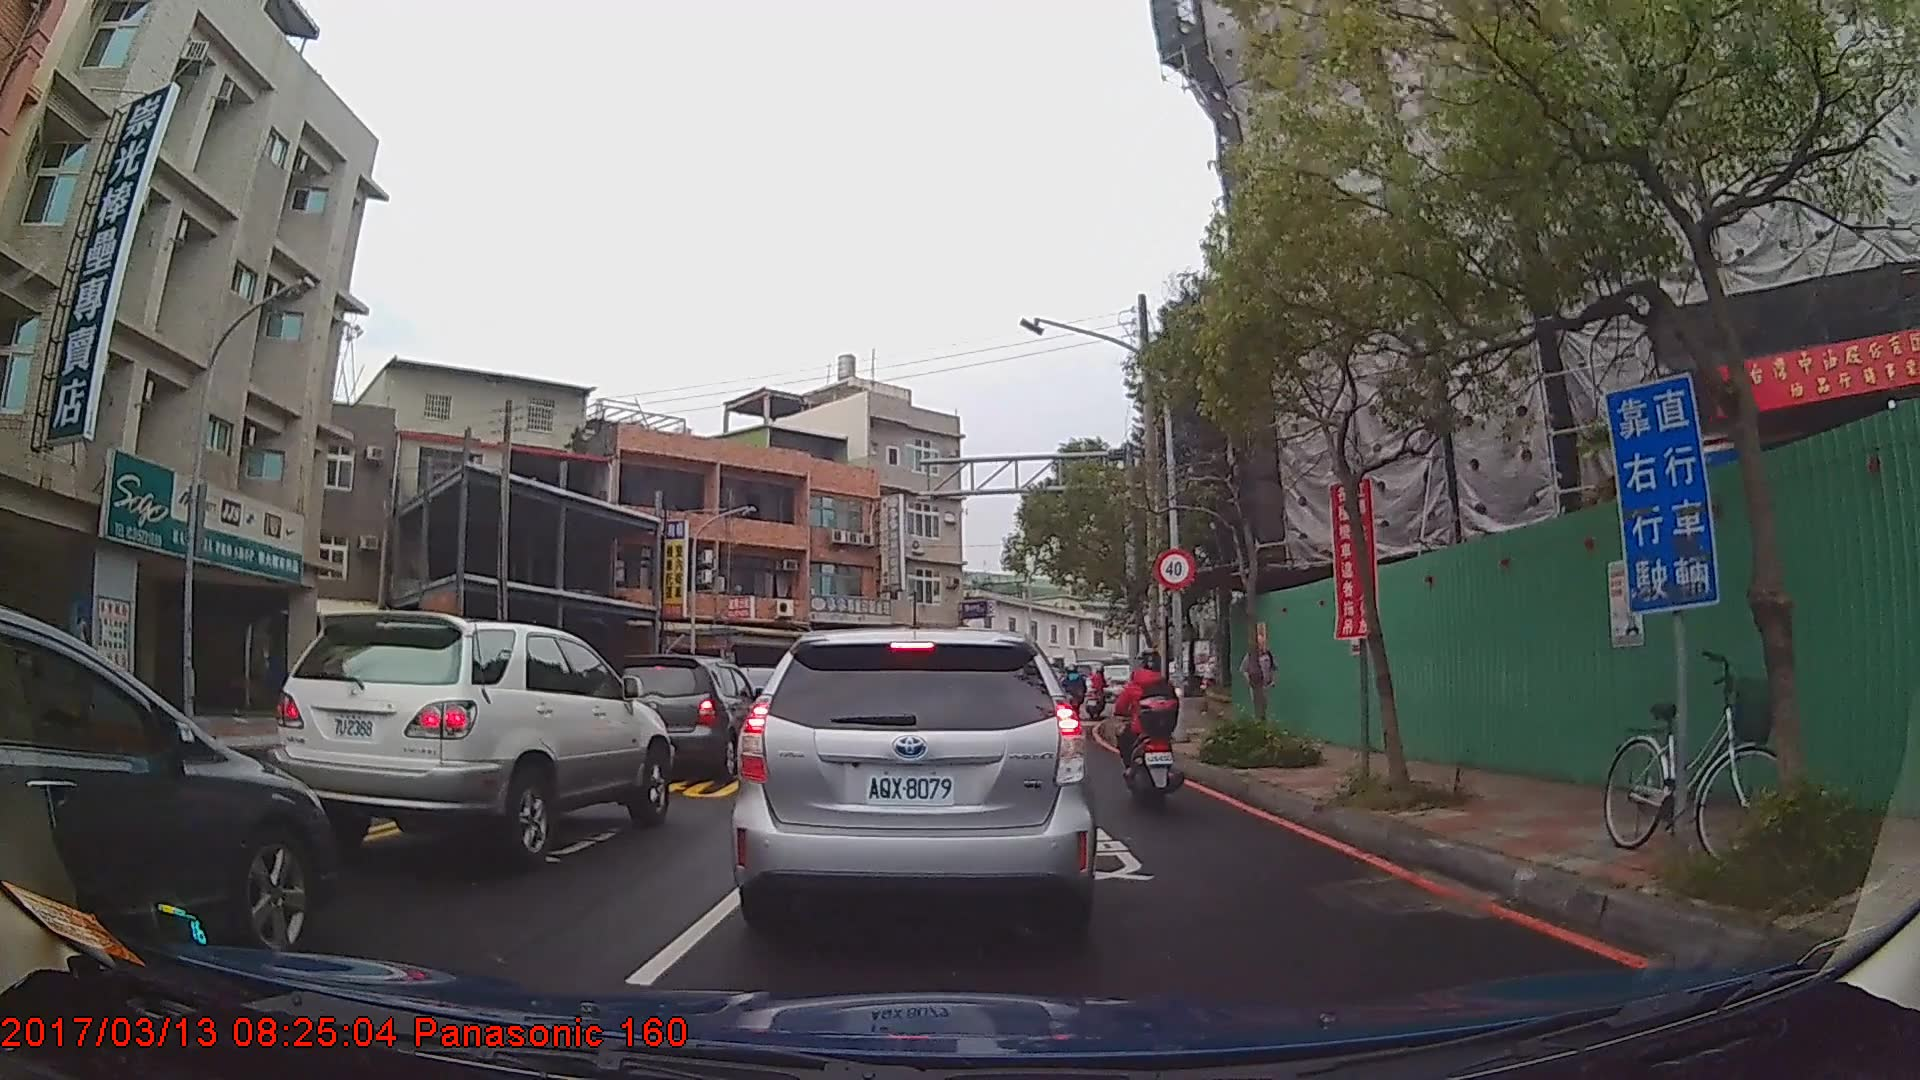pedestrian: (1241, 634, 1280, 740)
rider: (1113, 647, 1187, 812), (1087, 665, 1107, 717)
vehicle: (0, 603, 340, 964), (734, 625, 1102, 944), (268, 605, 678, 867), (601, 652, 766, 774)
